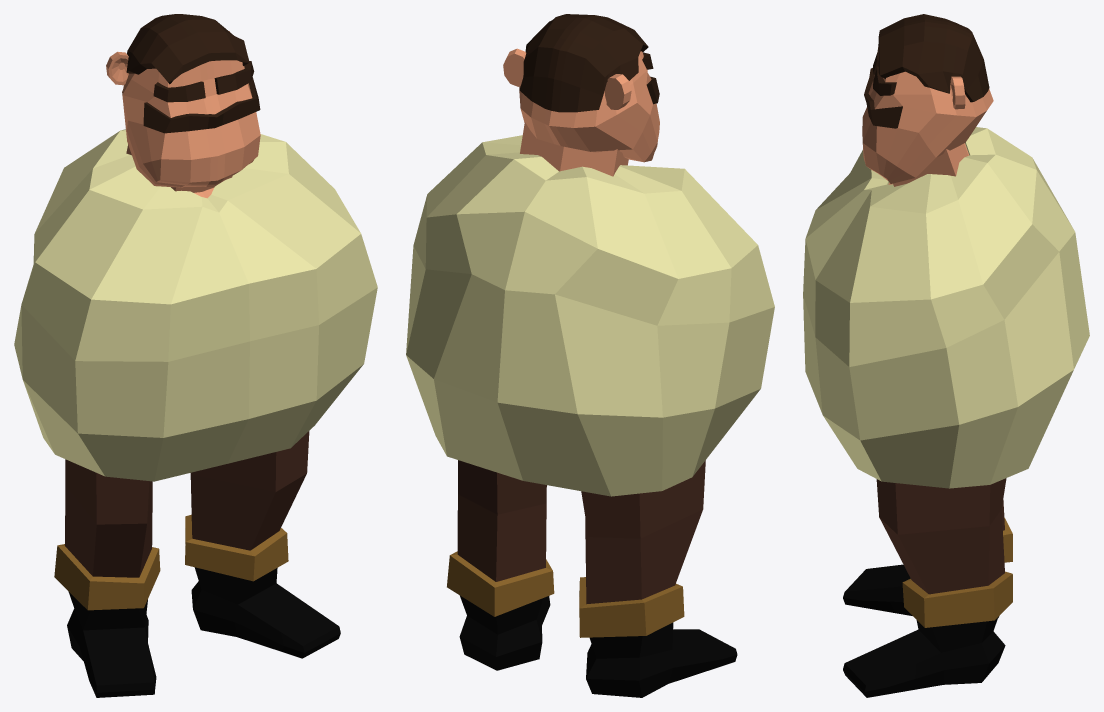
The model's file is BaseModel.fbx.
The picture shows the model from 3 angles, left to right: view 1: azimuth 30°, elevation 25°; view 2: azimuth 150°, elevation 25°; view 3: azimuth 270°, elevation 25°; orthographic projection. The views are drawn at different scales.
Visible parts, largest first — view 1: Cube, Cylinder, Cube.002, Cube.004, Cylinder.003; view 2: Cube, Cylinder, Cube.004, Cube.002, Cylinder.002, Cylinder.003; view 3: Cube, Cylinder, Cube.002, Cube.004, Cylinder.002.
Boxes of the visible parts, x1,y1,x2,y2 form: Cube: (14, 129, 377, 481); Cylinder: (54, 431, 340, 697); Cube.002: (122, 60, 260, 187); Cube.004: (126, 14, 260, 133); Cylinder.003: (106, 31, 229, 85); Cube: (406, 135, 774, 496); Cylinder: (447, 460, 737, 697); Cube.004: (519, 14, 659, 112); Cube.002: (519, 51, 659, 162); Cylinder.002: (520, 122, 628, 176); Cylinder.003: (503, 48, 631, 109); Cube: (803, 127, 1089, 488); Cylinder: (843, 478, 1012, 697); Cube.002: (862, 71, 993, 183); Cube.004: (864, 14, 989, 128); Cylinder.002: (893, 143, 968, 186).
Bounding box in the file's own units: 642 × 1237 × 520.
